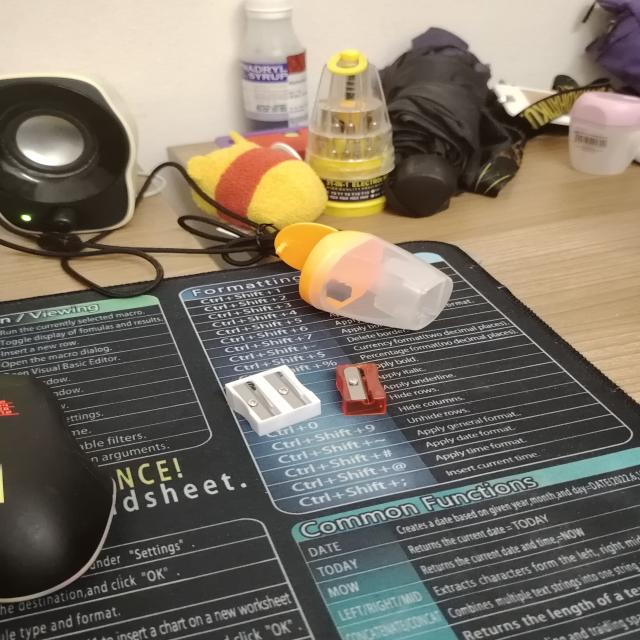sharpener: (275, 223, 453, 330), (225, 366, 321, 436), (569, 91, 640, 175), (336, 363, 386, 415)
